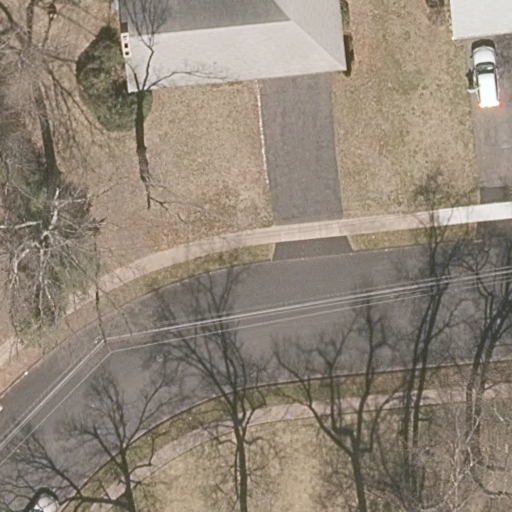DT: (96, 311, 115, 354)
